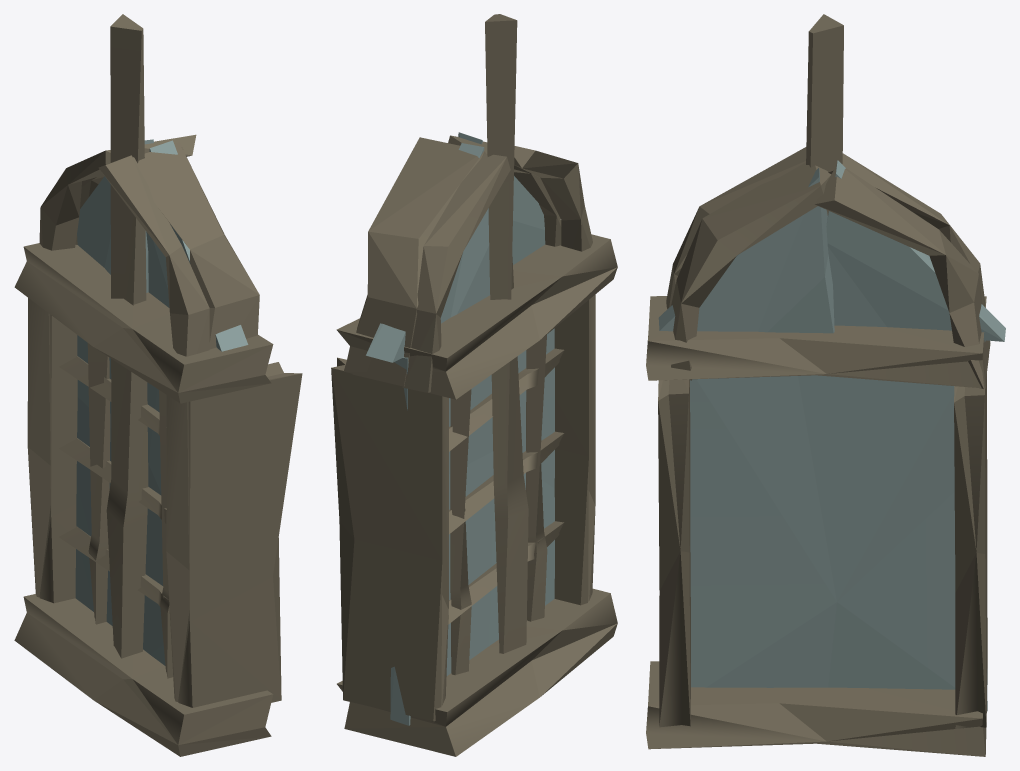
File: window (1).fbx
3 views of the same model, side by side, from view 1: azimuth 30°, elevation 25°; view 2: azimuth 150°, elevation 25°; view 3: azimuth 270°, elevation 25° (orthographic). The views are drawn at different scales.
Visible parts, largest first — view 1: window__1__Merged; view 2: window__1__Merged; view 3: window__1__Merged.
Part boxes in pixels (x1,y1,x2,y2): window__1__Merged: [14, 14, 302, 756]; window__1__Merged: [331, 14, 617, 756]; window__1__Merged: [646, 14, 1005, 756].
Size of the model in its own units: 95.97 by 451 by 212.
